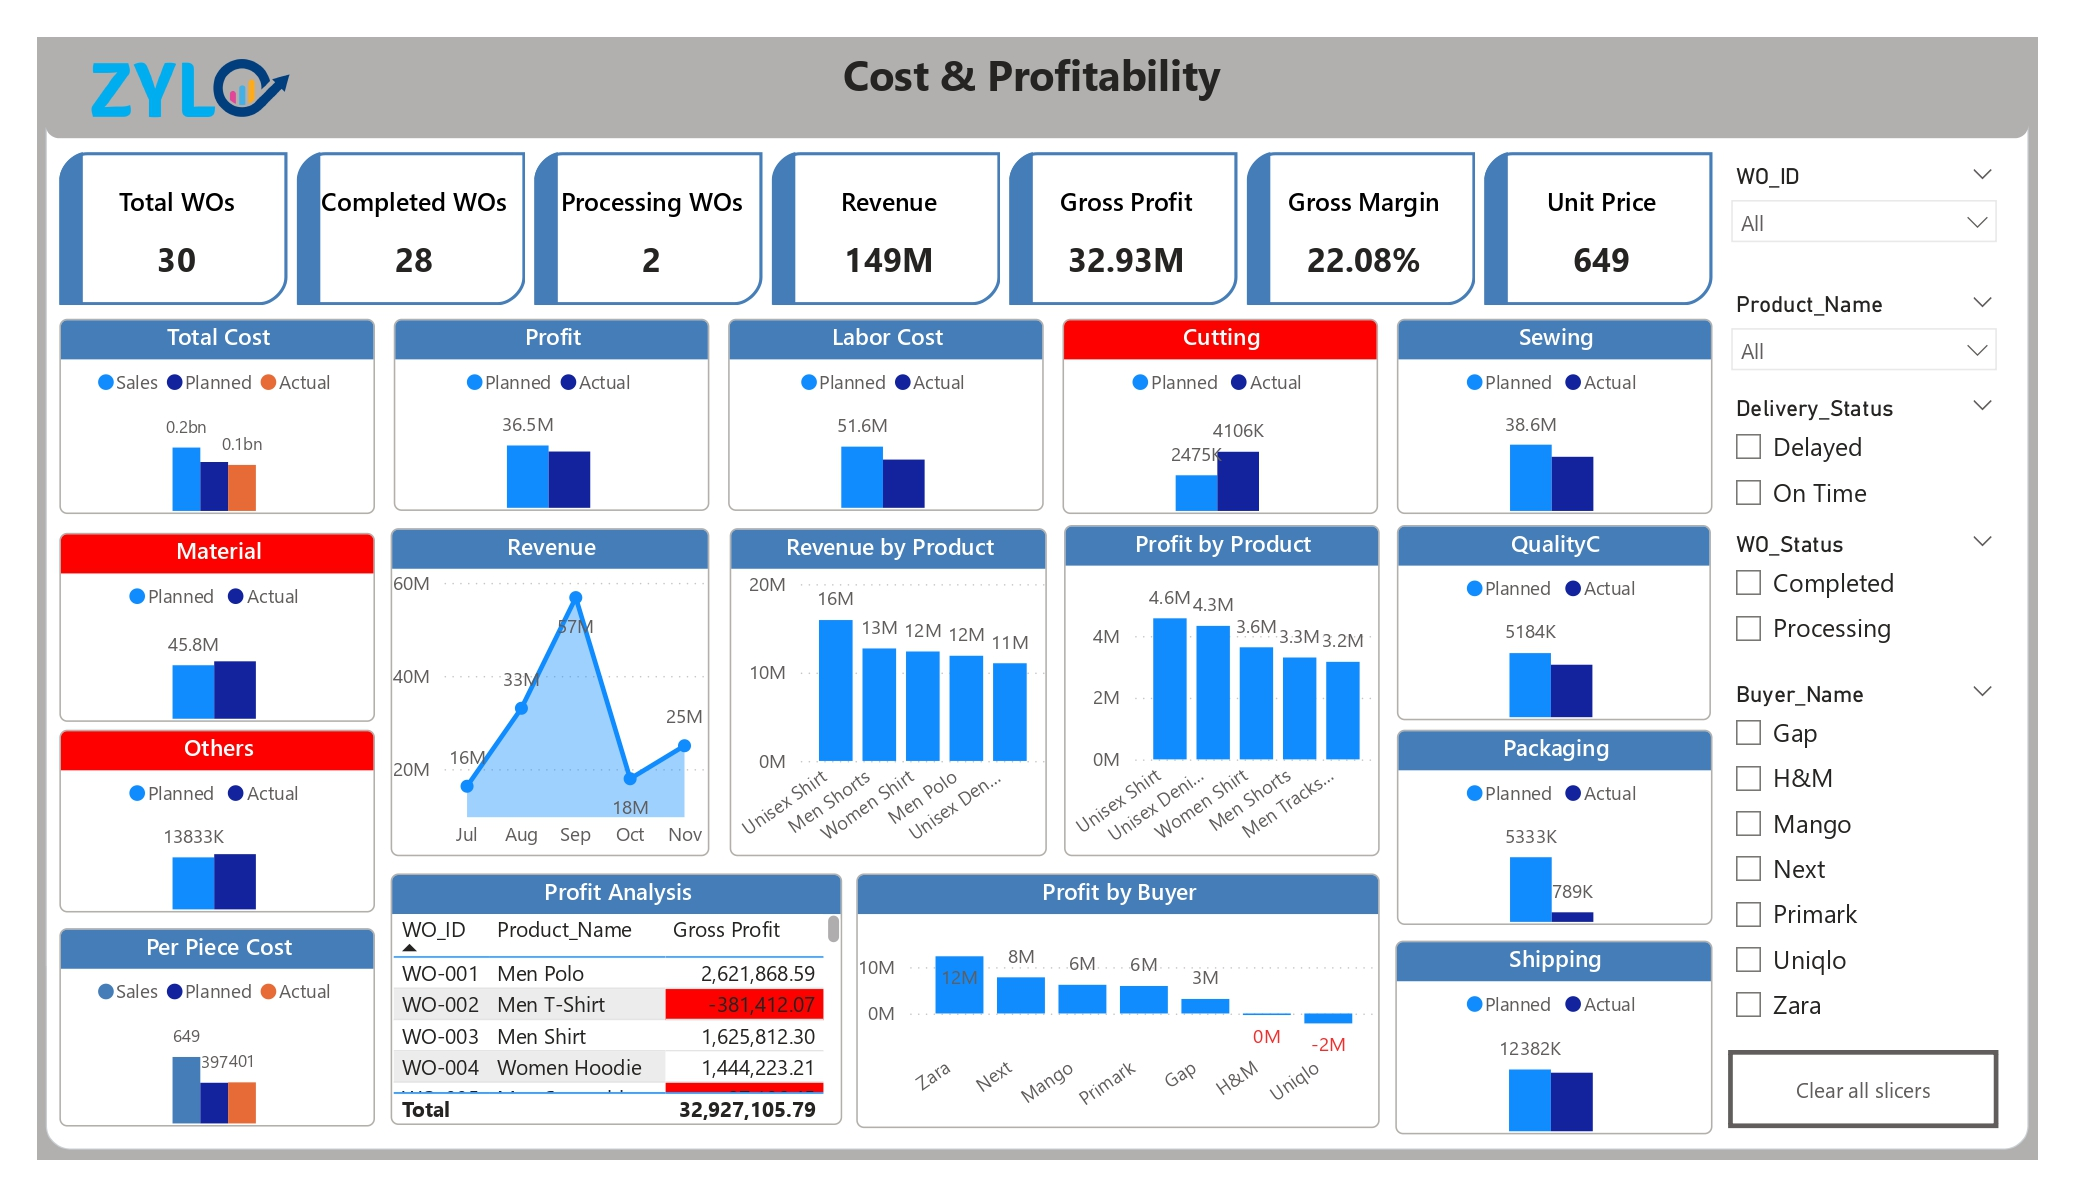

The dashboard page shown, as its layout file describes it:
{"tool":"powerbi","page":{"name":"4. Cost & Profitability ","canvas":[1280,720],"ordinal":3},"visuals":[{"type":"slicer","fields":{"Values":["Fact_WorkOrders.WO_Status"]},"box":[1073.5,310.8,190.2,88],"z":0},{"type":"slicer","fields":{"Values":["Fact_WorkOrders.Delivery_Status"]},"box":[1073.5,223.8,190.2,94.5],"z":1000},{"type":"slicer","fields":{"Values":["Fact_WorkOrders.WO_ID"]},"box":[1073.6,76.4,190,73.6],"z":2000},{"type":"slicer","fields":{"Values":["Dim_Product.Product_Name"]},"box":[1073.5,157.6,190.2,66.3],"z":3000},{"type":"slicer","fields":{"Values":["Dim_Buyer.Buyer_Name"]},"box":[1073.5,407.5,190.2,232.5],"z":4000},{"type":"actionButton","box":[1082.2,647.6,172.8,50],"z":5000},{"type":"clusteredColumnChart","title":"Material","fields":{"Y":["_Measures_5_Cost&Profit.# Planned Material Cost","_Measures_5_Cost&Profit.# Total Material Cost"]},"box":[14.1,316.9,202.1,120.6],"z":6000},{"type":"clusteredColumnChart","title":"Others","fields":{"Y":["_Measures_5_Cost&Profit.# Planned Others Cost","_Measures_5_Cost&Profit.# Total Others Cost"]},"box":[14.2,443.3,202.2,117],"z":7000},{"type":"clusteredColumnChart","title":"Cutting","fields":{"Y":["_Measures_5_Cost&Profit.# Planned Cutting Cost","_Measures_5_Cost&Profit.# Cutting Labor Cost"]},"box":[655.9,180,202.2,125],"z":8000},{"type":"clusteredColumnChart","title":"Sewing","fields":{"Y":["_Measures_5_Cost&Profit.# Planned Sewing Cost","_Measures_5_Cost&Profit.# Sewing Labor Cost"]},"box":[869.9,180,202.2,125],"z":9000},{"type":"clusteredColumnChart","title":"QualityC","fields":{"Y":["_Measures_5_Cost&Profit.# Planned QualityC Cost","_Measures_5_Cost&Profit.# QualityC Labor Cost"]},"box":[869.9,312.1,201.3,125],"z":10000},{"type":"clusteredColumnChart","title":"Packaging","fields":{"Y":["_Measures_5_Cost&Profit.# Planned Packing Cost","_Measures_5_Cost&Profit.# Packing Labor Cost"]},"box":[869.9,443.3,202.2,125],"z":11000},{"type":"clusteredColumnChart","title":"Shipping","fields":{"Y":["_Measures_5_Cost&Profit.# Planned Shipping Cost","_Measures_5_Cost&Profit.# Total Shipping Cost"]},"box":[869,578.1,203.1,124.1],"z":12000},{"type":"cardVisual","fields":{"Data":["_Measures_0_Global.# Total WOs","_Measures_2_WO.# Completed WOs","_Measures_2_WO.# Processing WOs","_Measures_5_Cost&Profit.# Actual Revenue","_Measures_5_Cost&Profit.# Gross Profit","_Measures_0_Global.# Gross Margin %","_Measures_5_Cost&Profit.# Unit Sales Price"]},"box":[8.7,68.5,1072.5,107.6],"z":13000},{"type":"clusteredColumnChart","title":"Total Cost","fields":{"Y":["_Measures_5_Cost&Profit.# Target Revenue","_Measures_0_Global.# Planned Total Cost","_Measures_5_Cost&Profit.# Total Actual Cost"]},"box":[14.1,180,202.1,125],"z":14000},{"type":"clusteredColumnChart","title":"Labor Cost","fields":{"Y":["_Measures_5_Cost&Profit.# Planned Total Labor Cost","_Measures_5_Cost&Profit.# Total Labor Cost"]},"box":[442,180,202.2,123.3],"z":15000},{"type":"clusteredColumnChart","title":"Per Piece Cost","fields":{"Y":["_Measures_5_Cost&Profit.# Unit Sales Price","_Measures_5_Cost&Profit.# Planned Cost Per Piece","_Measures_5_Cost&Profit.# Actual Cost Per Piece"]},"box":[14.2,570.1,202.2,126.8],"z":16000},{"type":"clusteredColumnChart","title":"Profit","fields":{"Y":["_Measures_5_Cost&Profit.# Planned Profit","_Measures_5_Cost&Profit.# Actual Profit"]},"box":[228,180,202.2,123.3],"z":17000},{"type":"lineClusteredColumnComboChart","title":"Revenue","fields":{"Category":["Fact_Process.Short Month"],"Y2":["_Measures_5_Cost&Profit.# Actual Revenue"]},"box":[226.2,313.8,203.8,210],"z":18000},{"type":"clusteredColumnChart","title":"Revenue by Product","fields":{"Category":["Dim_Product.Product_Name"],"Y":["_Measures_5_Cost&Profit.# Actual Revenue"]},"box":[442.5,313.8,203.8,210],"z":19000},{"type":"clusteredColumnChart","title":"Profit by Product","fields":{"Y":["_Measures_5_Cost&Profit.# Gross Profit"],"Category":["Fact_WorkOrders.Product_Name"]},"box":[656.7,311.6,201.8,212.3],"z":20000},{"type":"tableEx","title":"Profit Analysis","fields":{"Values":["Fact_WorkOrders.WO_ID","Fact_WorkOrders.Product_Name","_Measures_5_Cost&Profit.# Gross Profit"]},"box":[226.2,535,288.8,161.2],"z":21000},{"type":"clusteredColumnChart","title":"Profit by Buyer","fields":{"Category":["Dim_Buyer.Buyer_Name"],"Y":["_Measures_5_Cost&Profit.# Gross Profit"]},"box":[523.8,535,335,162.5],"z":22000},{"type":"textbox","box":[344.3,0,591.4,60],"z":23000}]}

Visuals, with their boxes on the page's 1280x720 design canvas (x1, y1, x2, y2). These are canvas units, not pixel positions in the 2075x1200 screenshot, which may show the page scaled, cropped or inside an application window:
slicer - Fact_WorkOrders.WO_Status: box(1074, 311, 1264, 399)
slicer - Fact_WorkOrders.Delivery_Status: box(1074, 224, 1264, 318)
slicer - Fact_WorkOrders.WO_ID: box(1074, 76, 1264, 150)
slicer - Dim_Product.Product_Name: box(1074, 158, 1264, 224)
slicer - Dim_Buyer.Buyer_Name: box(1074, 408, 1264, 640)
actionButton: box(1082, 648, 1255, 698)
"Material" clusteredColumnChart: box(14, 317, 216, 438)
"Others" clusteredColumnChart: box(14, 443, 216, 560)
"Cutting" clusteredColumnChart: box(656, 180, 858, 305)
"Sewing" clusteredColumnChart: box(870, 180, 1072, 305)
"QualityC" clusteredColumnChart: box(870, 312, 1071, 437)
"Packaging" clusteredColumnChart: box(870, 443, 1072, 568)
"Shipping" clusteredColumnChart: box(869, 578, 1072, 702)
cardVisual - _Measures_0_Global.# Total WOs x _Measures_2_WO.# Completed WOs: box(9, 68, 1081, 176)
"Total Cost" clusteredColumnChart: box(14, 180, 216, 305)
"Labor Cost" clusteredColumnChart: box(442, 180, 644, 303)
"Per Piece Cost" clusteredColumnChart: box(14, 570, 216, 697)
"Profit" clusteredColumnChart: box(228, 180, 430, 303)
"Revenue" lineClusteredColumnComboChart: box(226, 314, 430, 524)
"Revenue by Product" clusteredColumnChart: box(442, 314, 646, 524)
"Profit by Product" clusteredColumnChart: box(657, 312, 858, 524)
"Profit Analysis" tableEx: box(226, 535, 515, 696)
"Profit by Buyer" clusteredColumnChart: box(524, 535, 859, 698)
textbox: box(344, 0, 936, 60)
